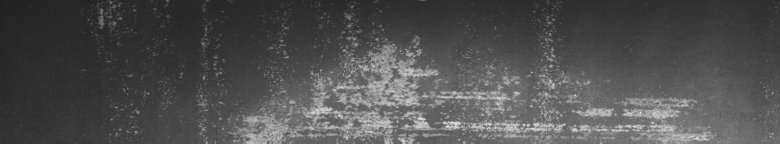kb: (88, 4, 695, 136)
